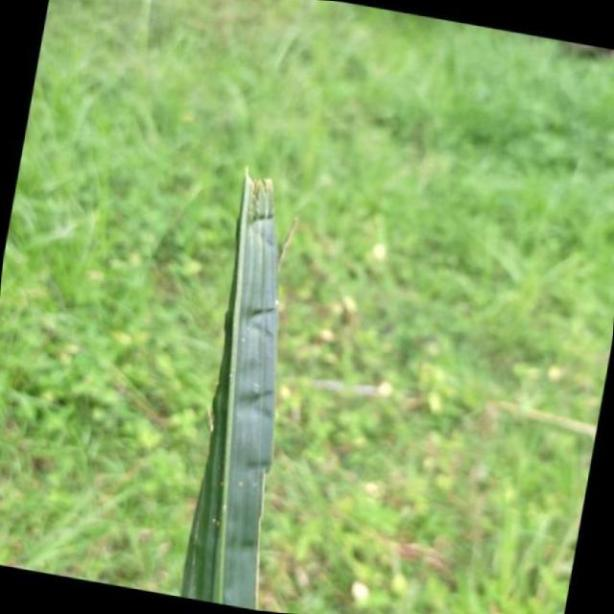Boron: (184, 168, 283, 614)
